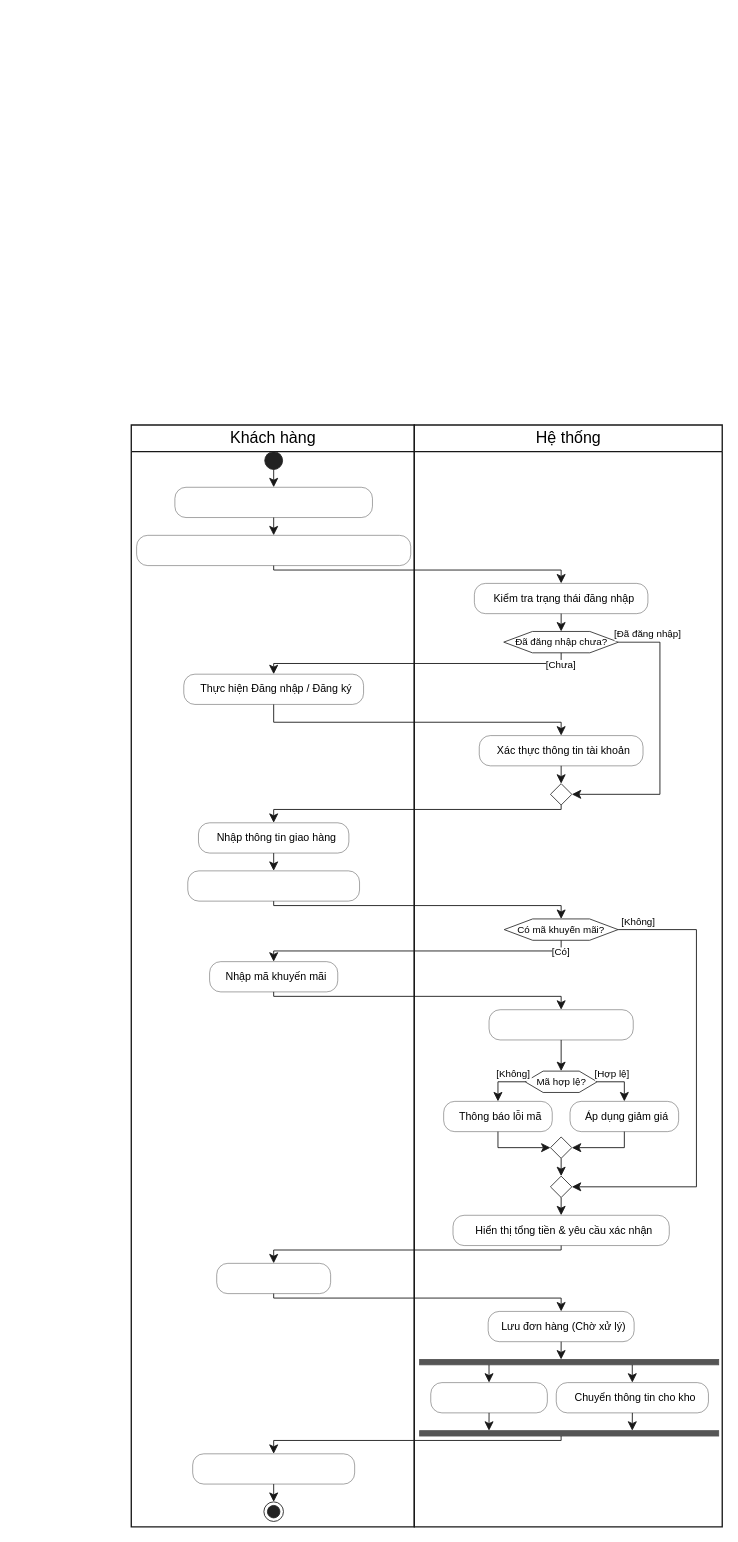
This 738x1542 diagram has some shape labels left out. The centre of each missing label's shape, as x and y in pixels:
"Chọn phương thức thanh toán" goes at [273,885].
"Gửi email xác nhận" goes at [488,1397].
"Kiểm tra mã khuyến mãi" goes at [560,1024].
"Nhận thông báo thành công" goes at [273,1468].
"Thêm sản phẩm vào giỏ hàng và chọn thanh toán" goes at [273,550].
"Xem chi tiết / Tìm kiếm sản phẩm" goes at [273,502].
"Xác nhận đặt hàng" goes at [273,1278].
